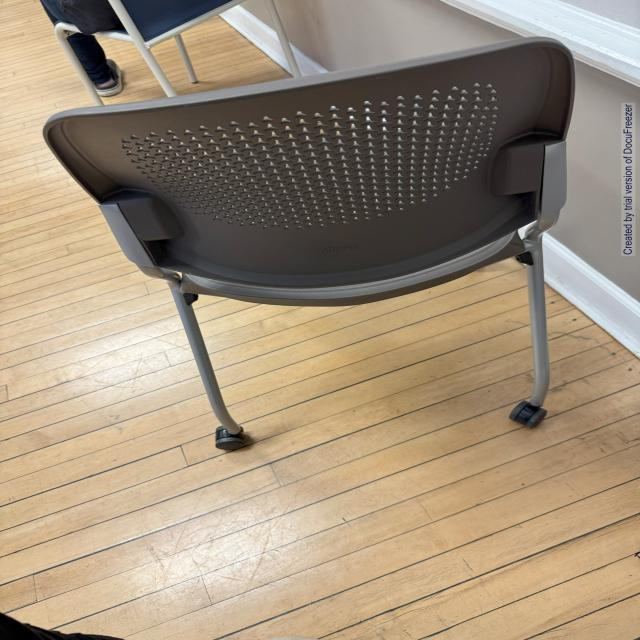chair: (36, 32, 587, 454)
